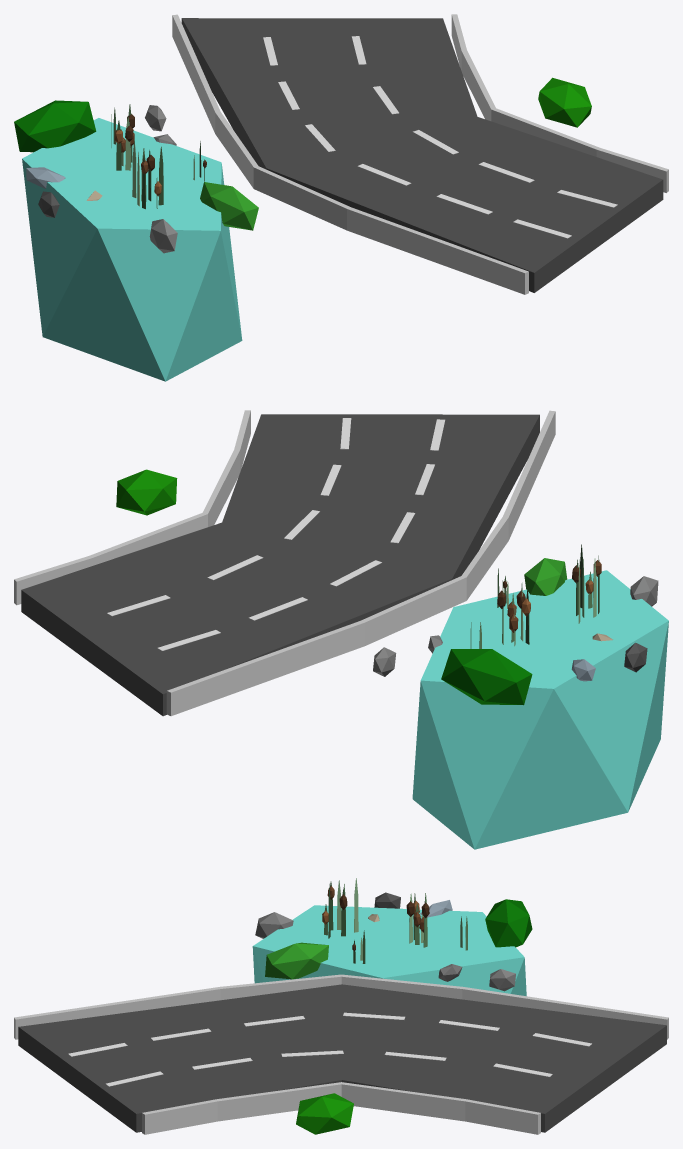
The model's file is highway_02_2.fbx.
3 renders of one model, top to bottom at view 1: azimuth 30°, elevation 25°; view 2: azimuth 150°, elevation 25°; view 3: azimuth 270°, elevation 25°, orthographic. The views are drawn at different scales.
Visible parts, largest first — view 1: autobahn02.002, Icosphere.007, leitPlankOutside.002, leitPlankInside.002, Icosphere.008, Icosphere.016, Icosphere.015, Icosphere.011, Icosphere.012; view 2: autobahn02.002, Icosphere.007, leitPlankOutside.002, leitPlankInside.002, Icosphere.008, Icosphere.016, Icosphere.015; view 3: autobahn02.002, Icosphere.007, leitPlankInside.002, leitPlankOutside.002, Icosphere.016, Icosphere.015, Icosphere.008, Icosphere.011, Icosphere.010.
Part boxes in pixels (<box>): autobahn02.002: <box>181,18,663,292</box>; Icosphere.007: <box>22,118,242,381</box>; leitPlankOutside.002: <box>172,14,528,294</box>; leitPlankInside.002: <box>451,14,668,192</box>; Icosphere.008: <box>14,100,96,152</box>; Icosphere.016: <box>538,77,591,127</box>; Icosphere.015: <box>200,182,258,230</box>; Icosphere.011: <box>149,219,177,253</box>; Icosphere.012: <box>26,167,65,188</box>; autobahn02.002: <box>21,414,539,716</box>; Icosphere.007: <box>412,570,668,849</box>; leitPlankOutside.002: <box>166,410,555,716</box>; leitPlankInside.002: <box>14,410,250,605</box>; Icosphere.008: <box>441,649,532,705</box>; Icosphere.016: <box>116,469,177,515</box>; Icosphere.015: <box>524,558,567,595</box>; autobahn02.002: <box>18,984,666,1132</box>; Icosphere.007: <box>252,905,526,996</box>; leitPlankInside.002: <box>142,1082,540,1134</box>; leitPlankOutside.002: <box>14,974,668,1039</box>; Icosphere.016: <box>296,1093,353,1134</box>; Icosphere.015: <box>265,942,328,979</box>; Icosphere.008: <box>485,899,532,947</box>; Icosphere.011: <box>255,912,293,938</box>; Icosphere.010: <box>489,969,515,991</box>.
Size of the model in its own units: 91.1 by 33.67 by 108.
